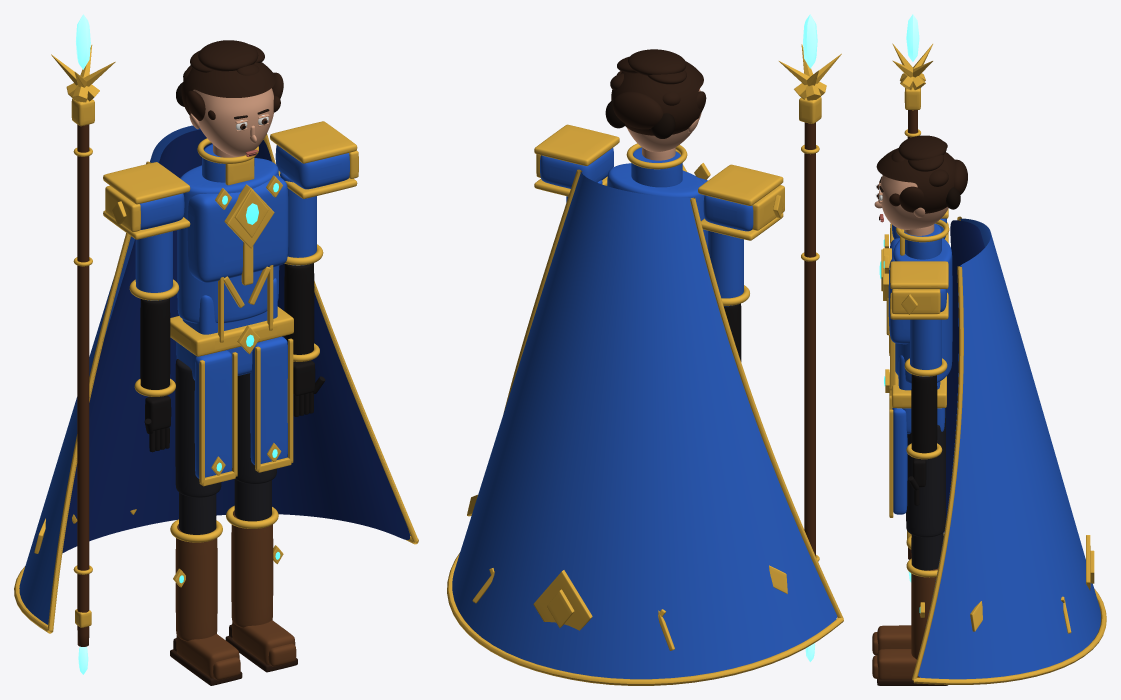
The model's file is protagonist.glb.
3 views of the same model, side by side, from view 1: azimuth 30°, elevation 25°; view 2: azimuth 150°, elevation 25°; view 3: azimuth 270°, elevation 25° (orthographic). The views are drawn at different scales.
Visible parts, largest first — view 1: Cape lining, Staff shaft, Chest, Cape, Torso, Boot shaft L, Boot shaft R, Hip flap R, Hip flap L, Head, Thigh R, Forearm R (+32 smaller); view 2: Cape, Staff shaft, Cape gold hem, Hair cap, Cape gold L, Pauldron gold top L, Pauldron gold top R, Upper arm R, Torso, Pauldron L, Cape center gold, Back (+9 smaller); view 3: Cape, Cape lining, Thigh L, Cape gold R, Forearm L, Hair cap, Torso, Pauldron gold top L, Upper arm L, Cape gold hem, Hip flap L, Head (+18 smaller).
Part boxes in pixels (x1,y1,x2,y2): Cape lining: (62,129,409,553); Staff shaft: (77,124,89,646); Chest: (187,175,288,282); Cape: (19,125,410,624); Torso: (177,158,279,323); Boot shaft L: (231,510,273,627); Boot shaft R: (175,524,217,641); Hip flap R: (194,350,232,478); Hip flap L: (250,336,287,464); Head: (193,88,273,156); Thigh R: (175,359,221,497); Forearm R: (140,298,170,389); Cape: (452,172,837,679); Staff shaft: (804,122,815,556); Cape gold hem: (447,553,843,685); Hair cap: (611,61,703,135); Cape gold L: (690,197,843,618); Pauldron gold top L: (534,124,619,166); Pauldron gold top R: (698,164,783,205); Upper arm R: (707,230,743,306); Torso: (607,163,706,244); Pauldron L: (540,148,613,188); Cape center gold: (533,570,592,630); Back: (613,91,663,129); Cape: (918,218,1100,679); Cape lining: (943,220,984,532); Thigh L: (906,419,945,537); Cape gold R: (912,266,963,680); Forearm L: (911,374,937,453); Hair cap: (876,148,955,213); Torso: (893,238,952,383); Pauldron gold top L: (890,261,948,289); Upper arm L: (910,319,941,376); Cape gold hem: (914,588,1106,684); Hip flap L: (892,408,907,514); Head: (880,175,948,229).
Bounding box in the file's own units: 1.13 × 2 × 0.719.
